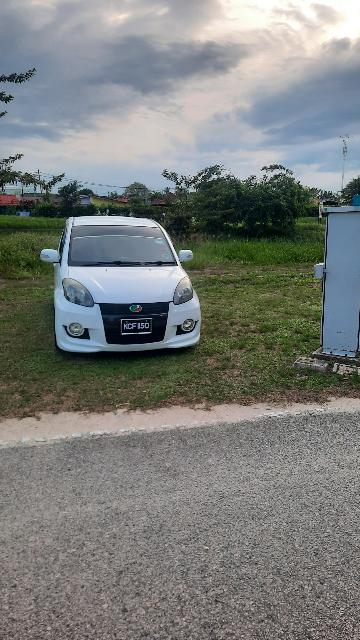License_Plate: (118, 317, 156, 338)
car: (39, 212, 203, 354)
